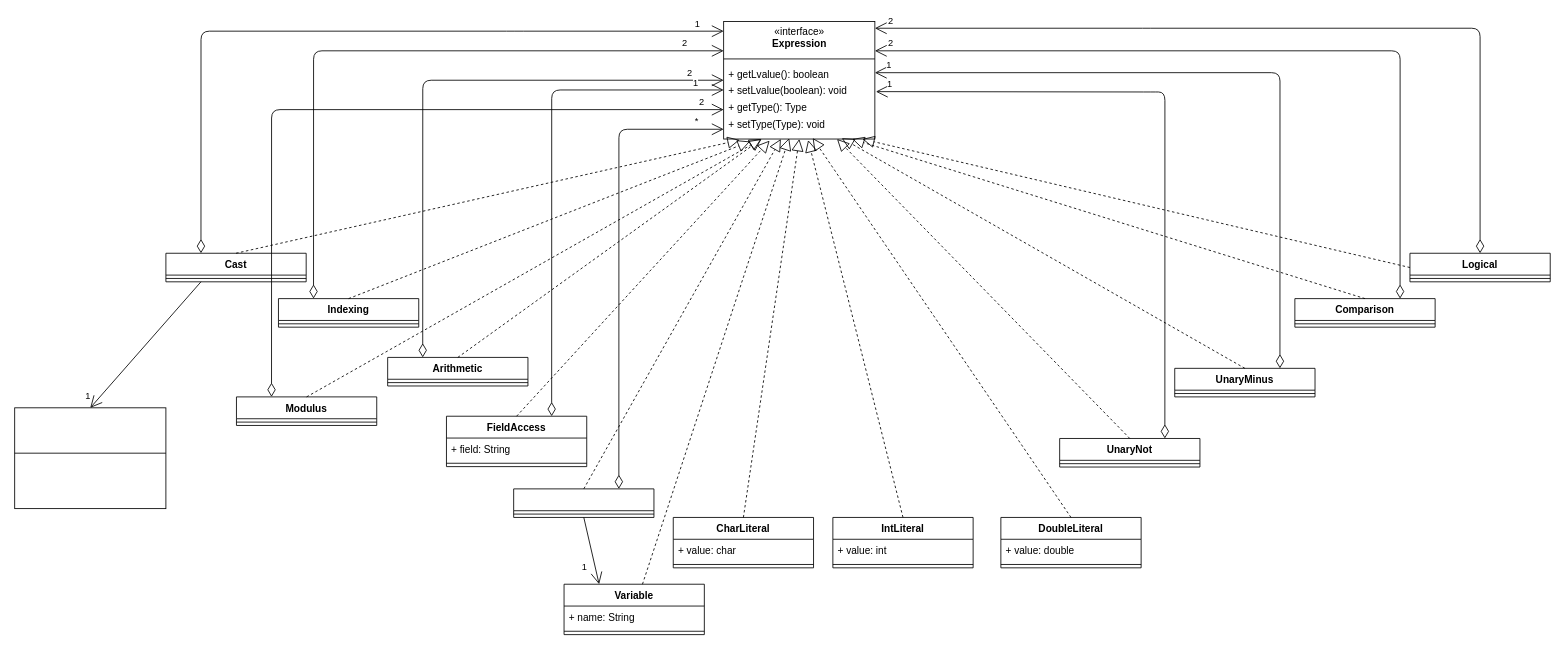
Some shapes in this 1565 by 649 pixel diagram are drawn without their labels. Here are the shapes that lost their labels. From the top down, the centre of each, then its label:
At (x=90, y=458): "«interface» Type".
At (x=583, y=502): "FunctionInvocation".
